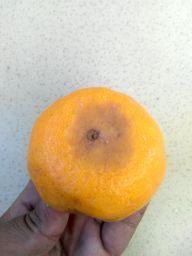Ripe: (29, 89, 163, 215)
